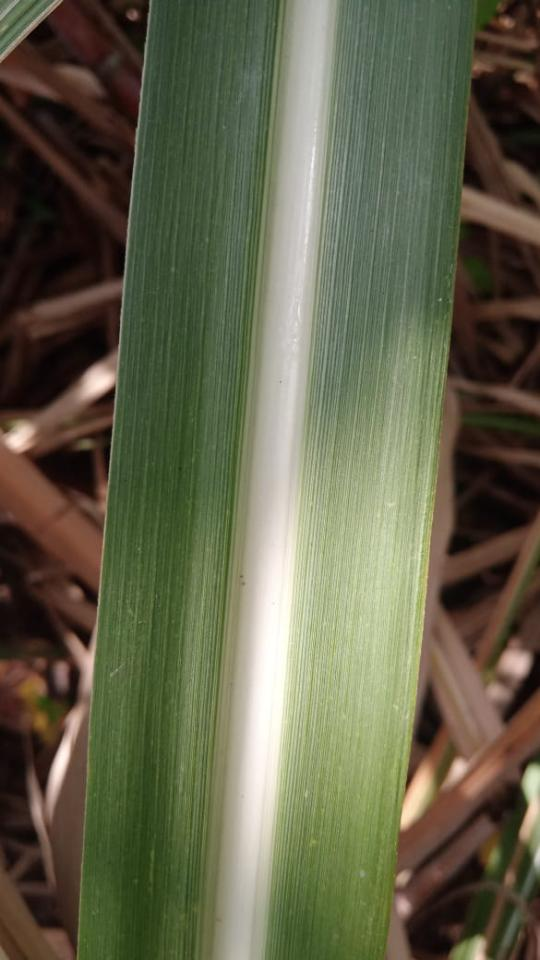Healthy: (78, 0, 474, 959)
